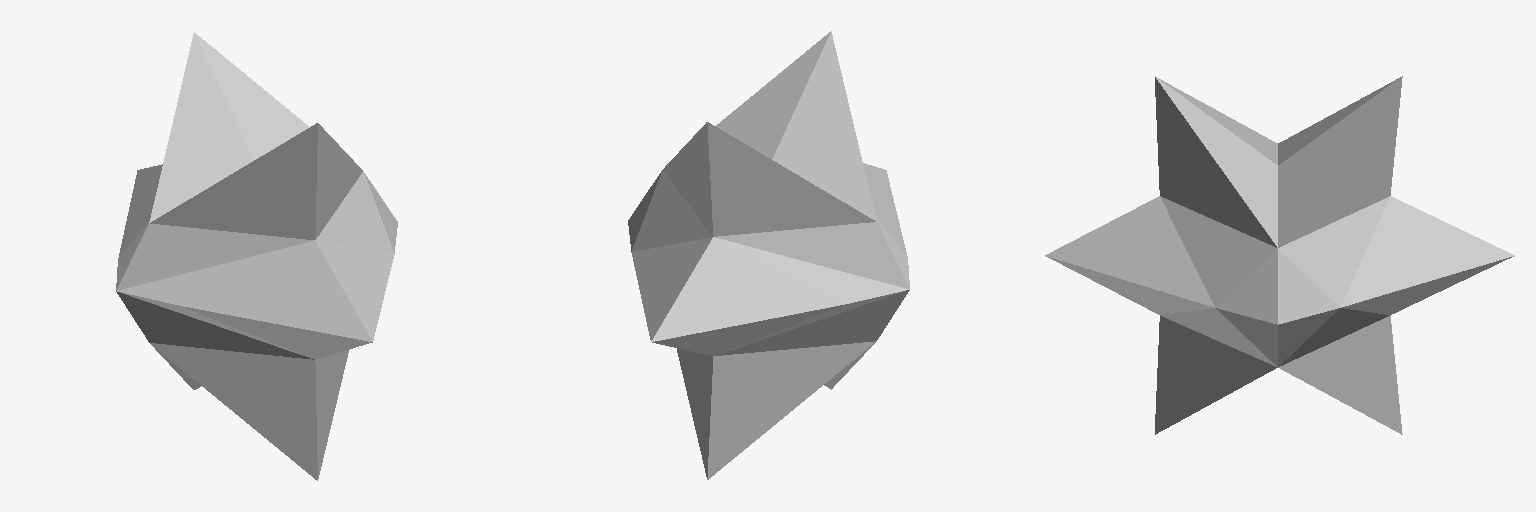
Rendered from odd_star_32.obj.
3 views of the same model, side by side, from view 1: azimuth 30°, elevation 25°; view 2: azimuth 150°, elevation 25°; view 3: azimuth 270°, elevation 25° (orthographic).
Parts seen in each view (by area): view 1: odd_star_32; view 2: odd_star_32; view 3: odd_star_32.
Boxes of the visible parts, <box> form: odd_star_32: <box>116,32,397,480</box>; odd_star_32: <box>628,31,909,479</box>; odd_star_32: <box>1045,76,1514,434</box>.
Size of the model in its own units: 2.63 by 3.2 by 3.81.